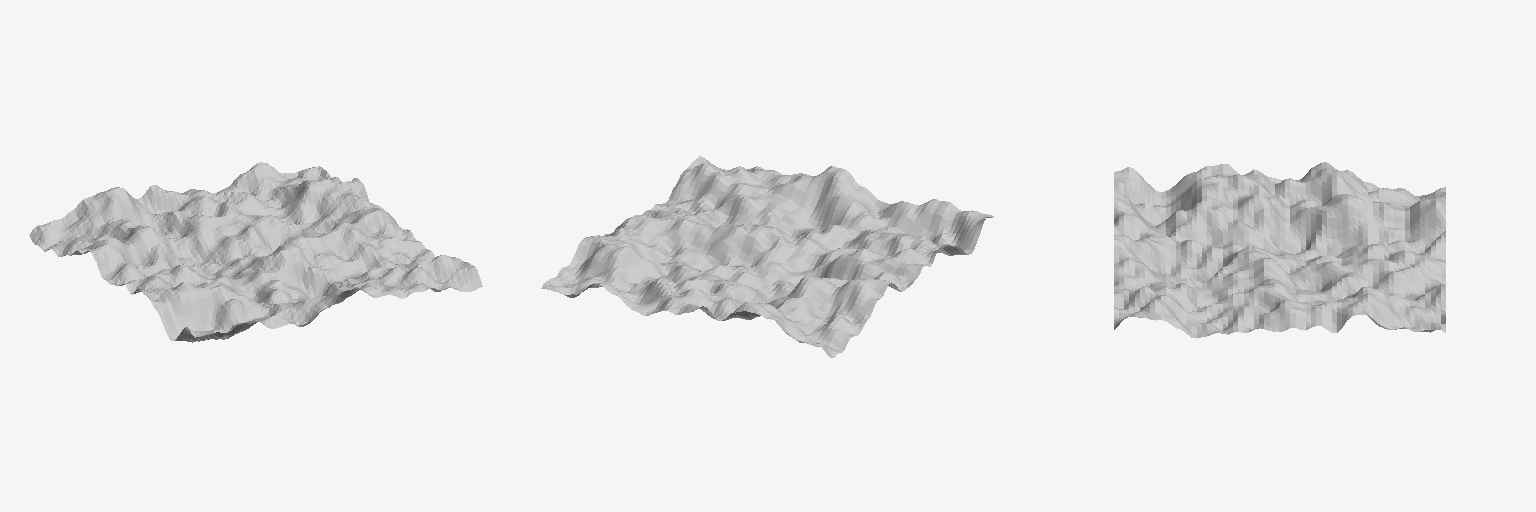
The model's file is terrain1.obj.
The picture shows the model from 3 angles: view 1: azimuth 30°, elevation 25°; view 2: azimuth 150°, elevation 25°; view 3: azimuth 270°, elevation 25°; orthographic projection.
Parts seen in each view (by area): view 1: Plane; view 2: Plane; view 3: Plane.
Part boxes in pixels (bbox=[...]): Plane: bbox=[29, 162, 482, 342]; Plane: bbox=[541, 156, 993, 357]; Plane: bbox=[1114, 162, 1445, 338].
Size of the model in its own units: 160 by 26.98 by 160.